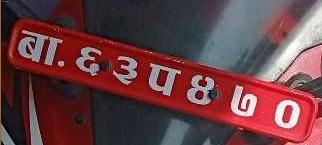0: (273, 95, 303, 130)
3: (112, 53, 142, 87)
4: (184, 72, 223, 108)
6: (74, 43, 107, 75)
7: (229, 81, 265, 119)
ba: (14, 26, 64, 68)
pa: (146, 60, 182, 99)
